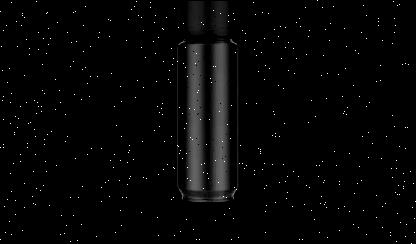Can: (173, 34, 239, 204)
